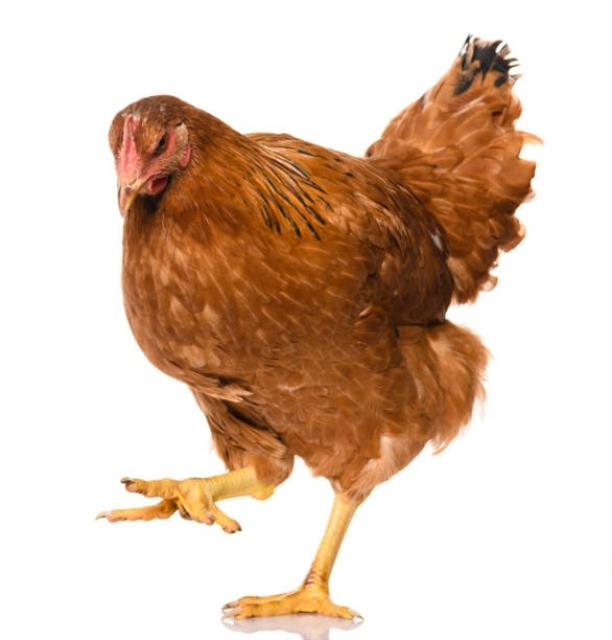Chicken: (95, 33, 542, 619)
